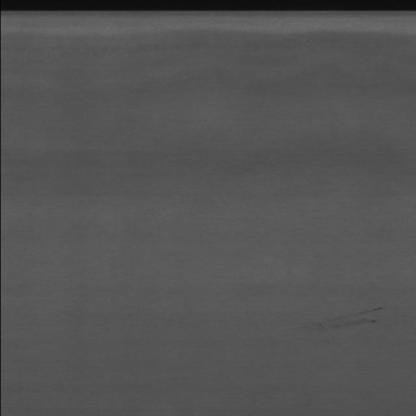water_spot: (303, 302, 383, 343)
